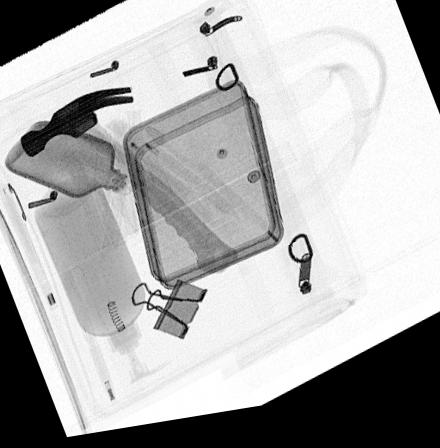Hammer: (18, 89, 240, 283)
